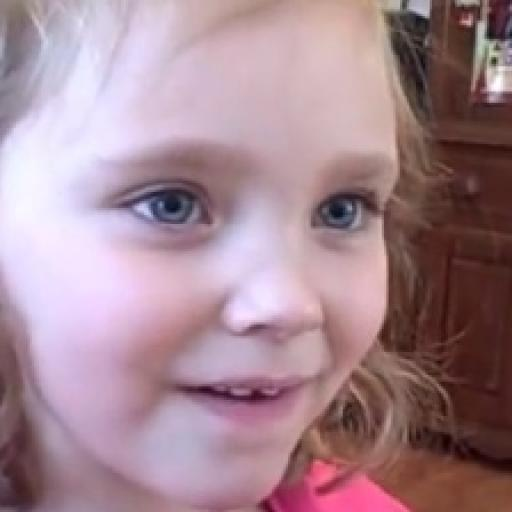Autism: (1, 0, 403, 512)
